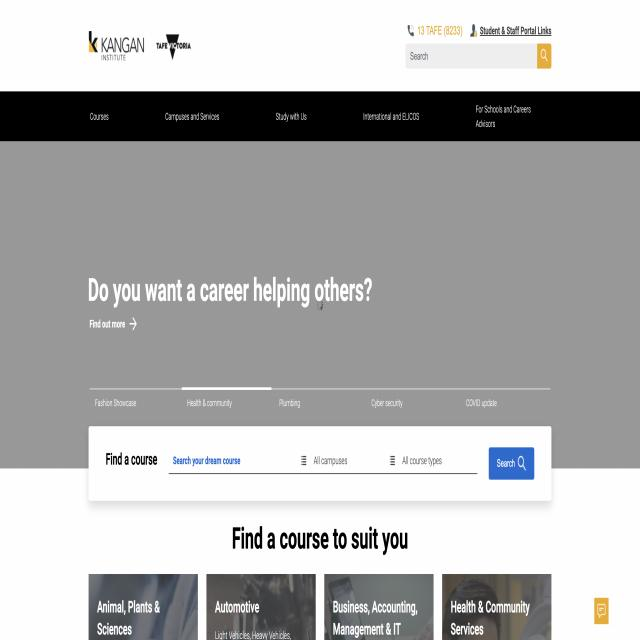Logo: (78, 12, 211, 82)
Navigation: (79, 104, 557, 140)
